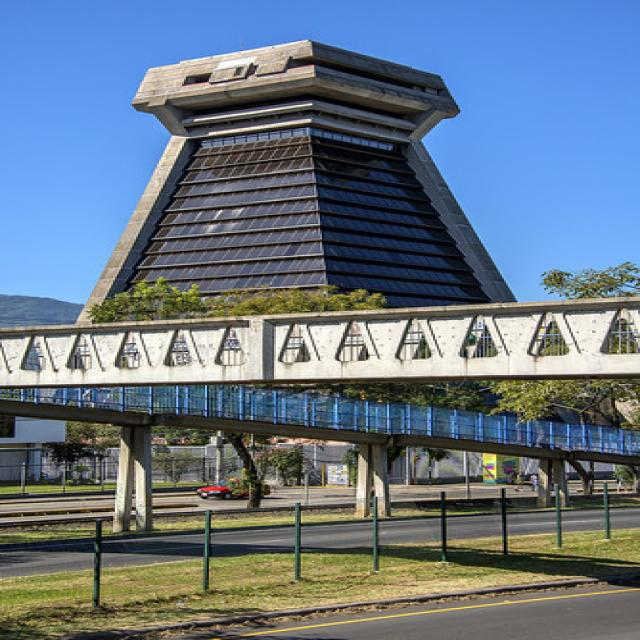Normal_building: (68, 36, 530, 352)
